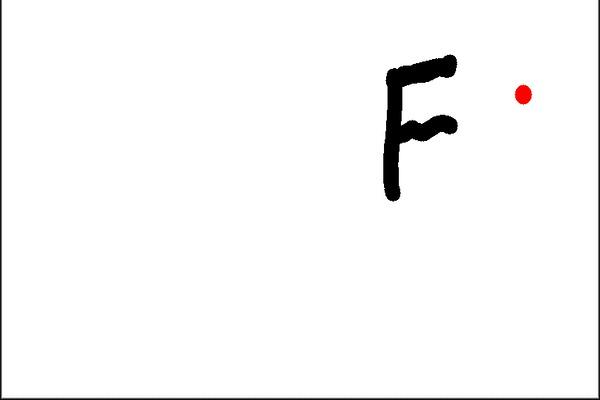F: (378, 50, 462, 201)
